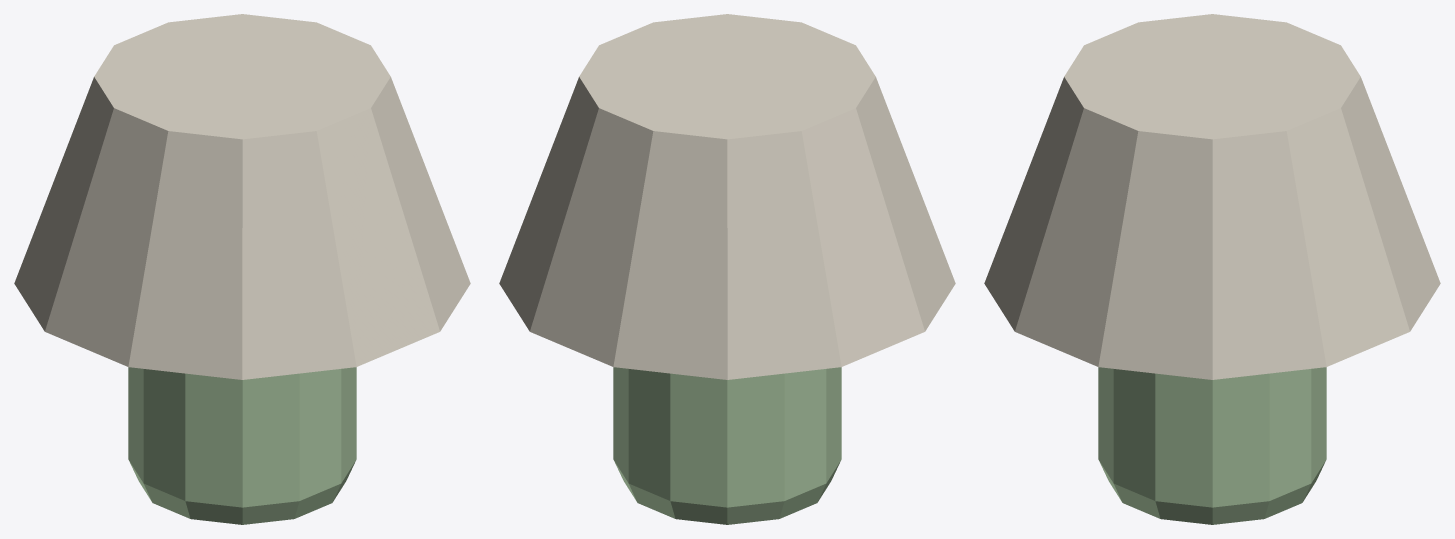
File: cozy-home-interiors-table-lamp-2537ba1f.glb
3 renders of one model, left to right at view 1: azimuth 30°, elevation 25°; view 2: azimuth 150°, elevation 25°; view 3: azimuth 270°, elevation 25°, orthographic.
Parts seen in each view (by area): view 1: table-lamp; view 2: table-lamp; view 3: table-lamp.
Part boxes in pixels (x1,y1,x2,y2): table-lamp: (14, 14, 470, 524); table-lamp: (499, 14, 955, 524); table-lamp: (984, 14, 1440, 524).
Size of the model in its own units: 0.4 by 0.4 by 0.4.
